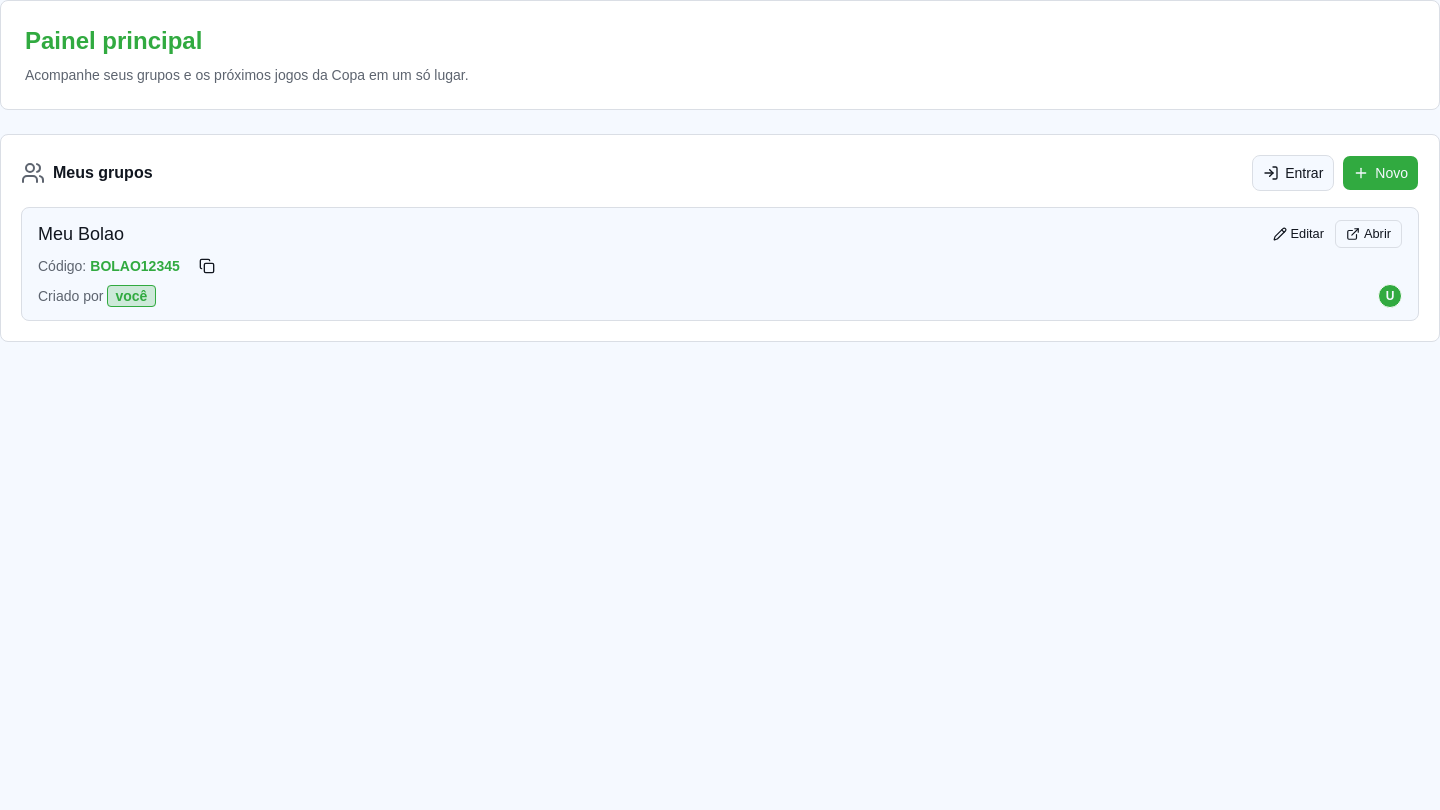
it: HomePage › abre modal de entrar em bolão ao clicar em Entrar
Click the button "Entrar": click(1293, 173) [1252,155,1334,191]
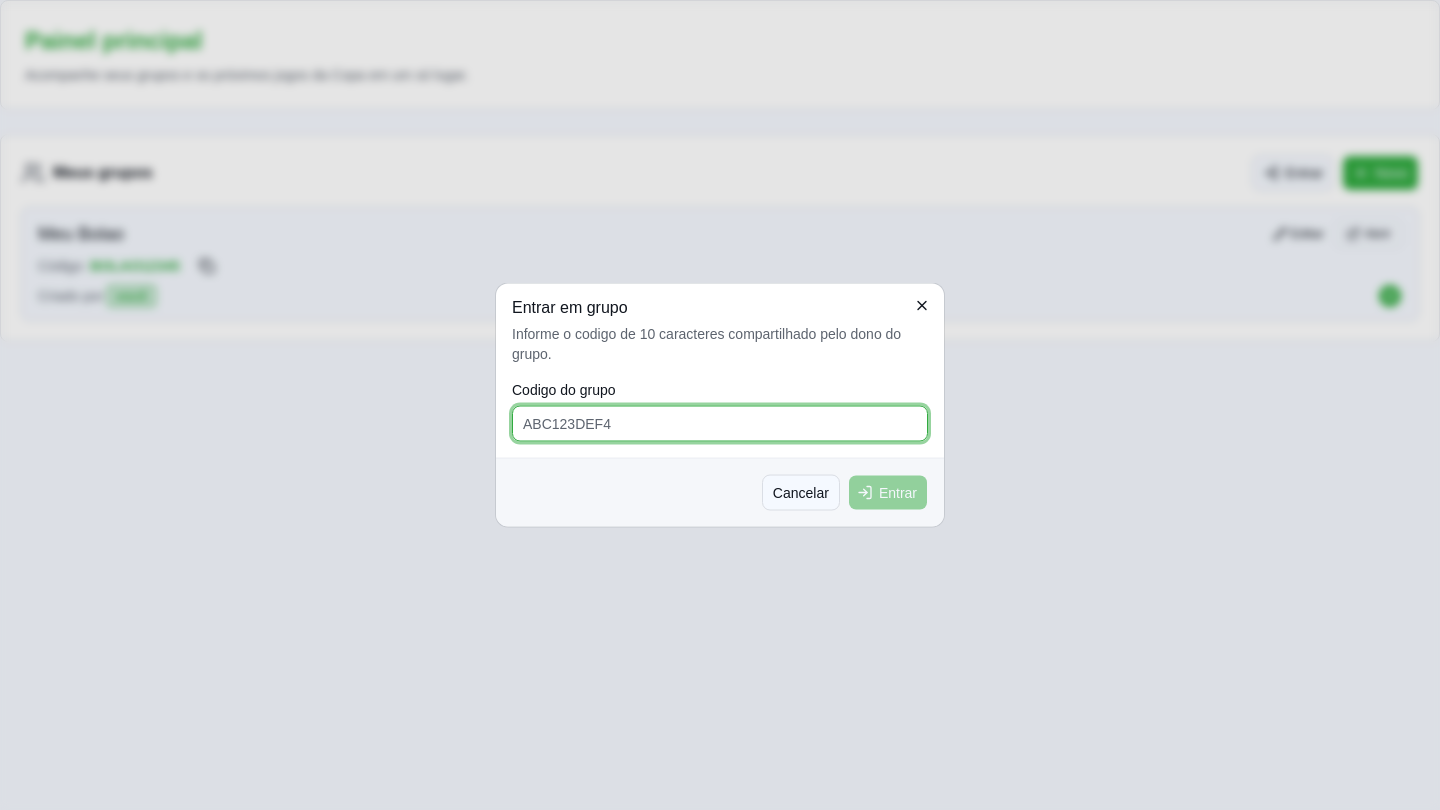
Result: the heading "Entrar em grupo" is shown at [512,298,628,316]
